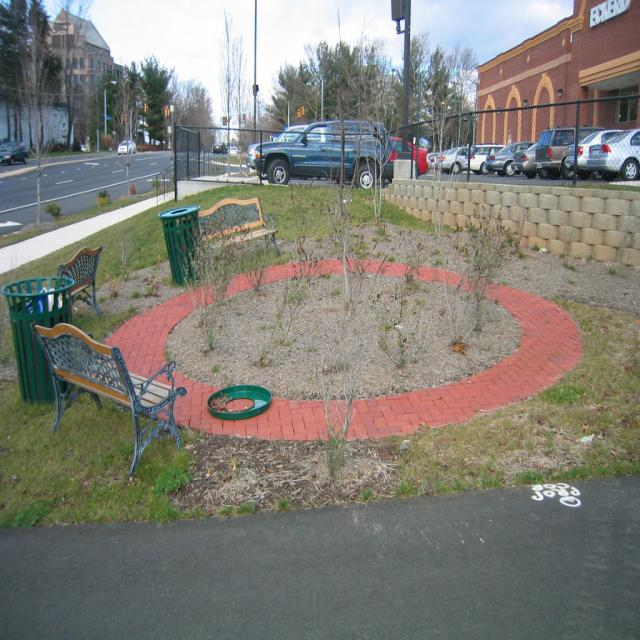Passenger Car: (590, 126, 640, 182), (564, 130, 598, 182), (485, 138, 513, 178), (513, 137, 538, 179), (0, 138, 28, 166), (115, 140, 137, 153), (212, 139, 228, 153)
Sport-Utility-Vehicle: (254, 118, 395, 192), (534, 123, 569, 182)
